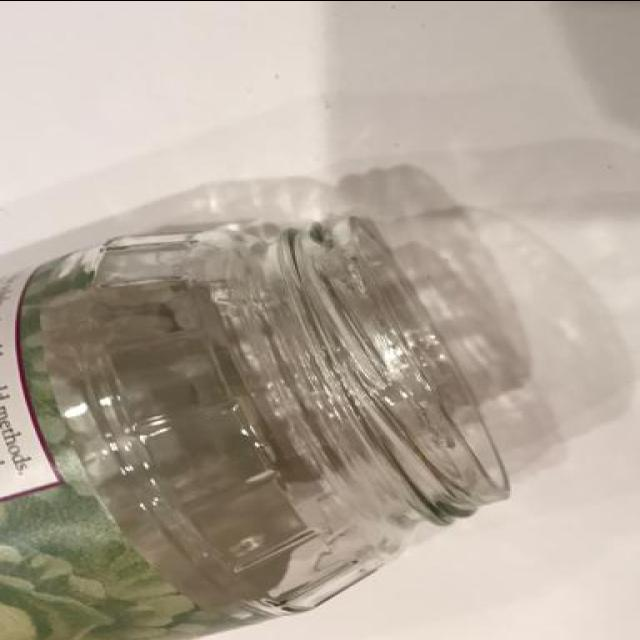glass: (0, 216, 513, 640)
